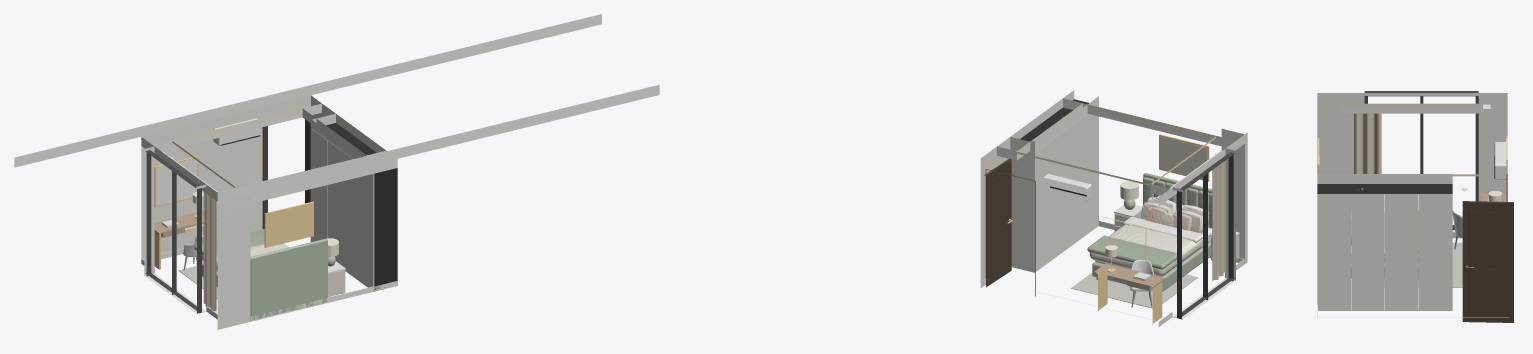
The model's file is ROOM3.glb.
The picture shows the model from 3 angles, left to right: view 1: azimuth 30°, elevation 25°; view 2: azimuth 150°, elevation 25°; view 3: azimuth 270°, elevation 25°; orthographic projection. The views are drawn at different scales.
Parts seen in each view (by area): view 1: WEB_ROOM3; view 2: WEB_ROOM3; view 3: WEB_ROOM3.
Boxes of the visible parts, x1,y1,x2,y2 form: WEB_ROOM3: (14, 14, 659, 329); WEB_ROOM3: (980, 90, 1247, 326); WEB_ROOM3: (1317, 91, 1513, 322).
Size of the model in its own units: 12.09 by 2.9 by 3.27.
